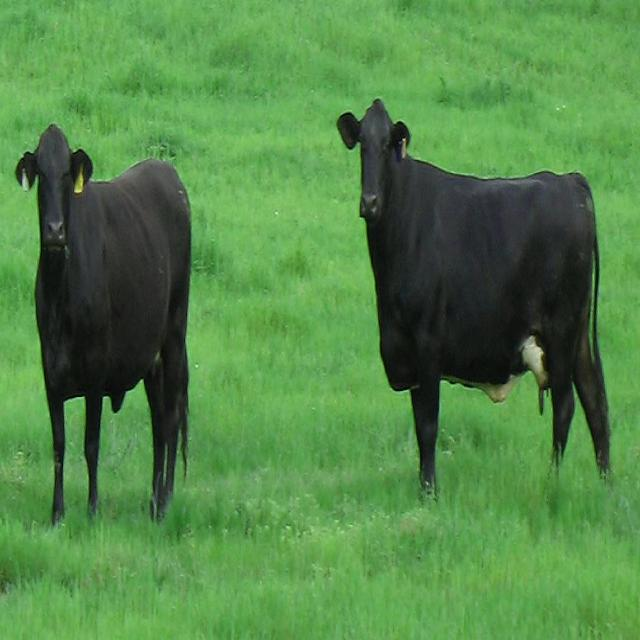cow: (338, 101, 610, 489), (15, 124, 191, 520)
